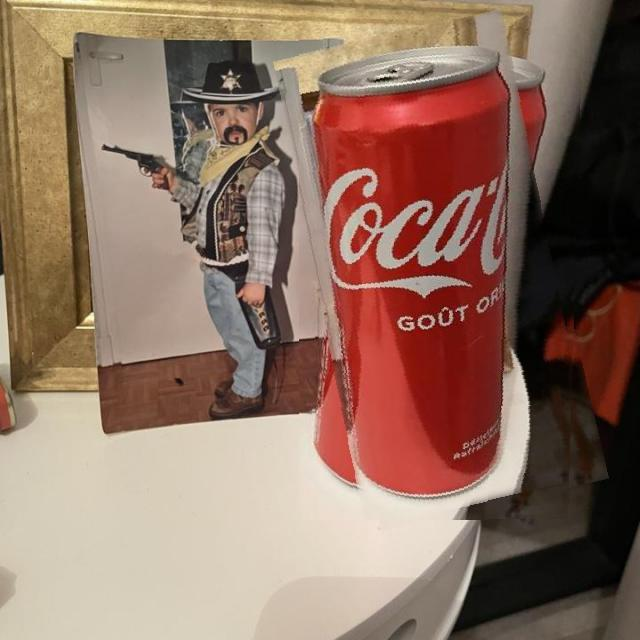recyclable: (299, 19, 583, 522)
